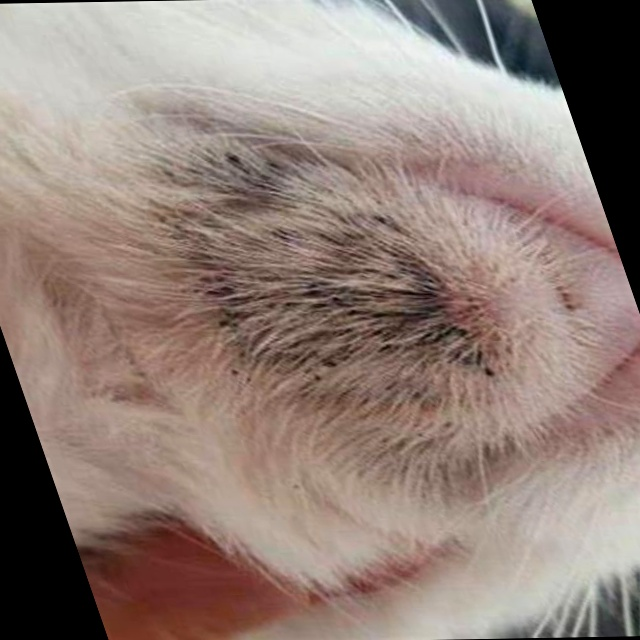acne: (146, 152, 524, 430)
